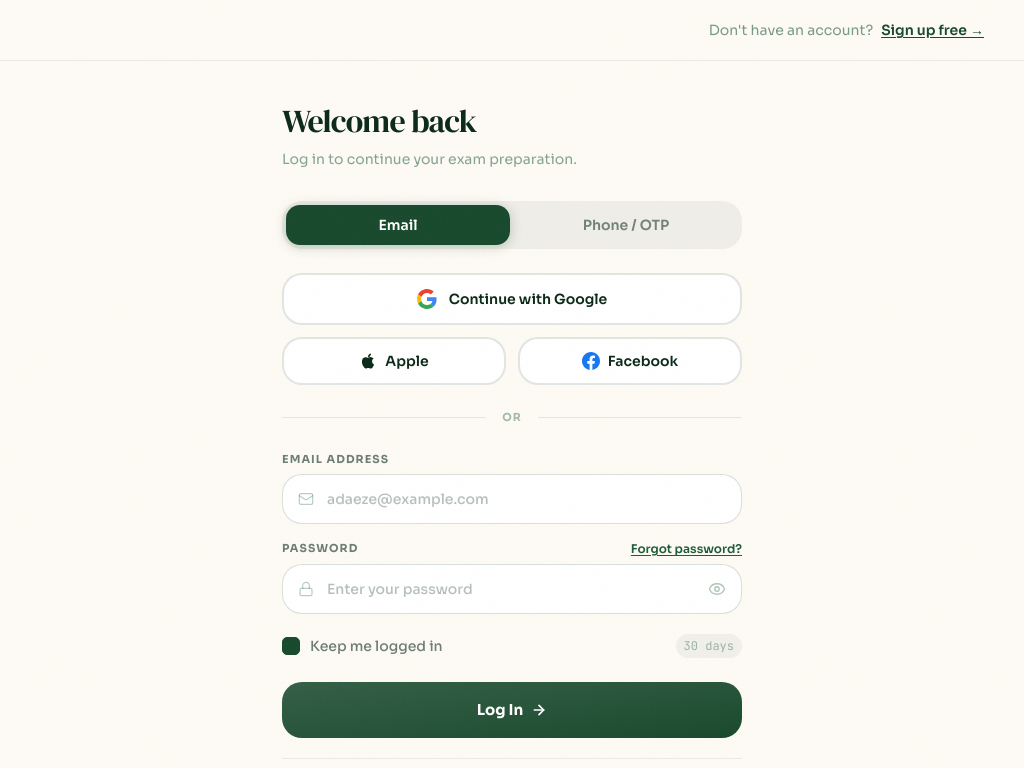
Scenario: LoginPage › Forgot Password Flow › login header is hidden while in forgot password view
Click the button "Forgot password?".
click(686, 549)  # box [631,541,742,557]
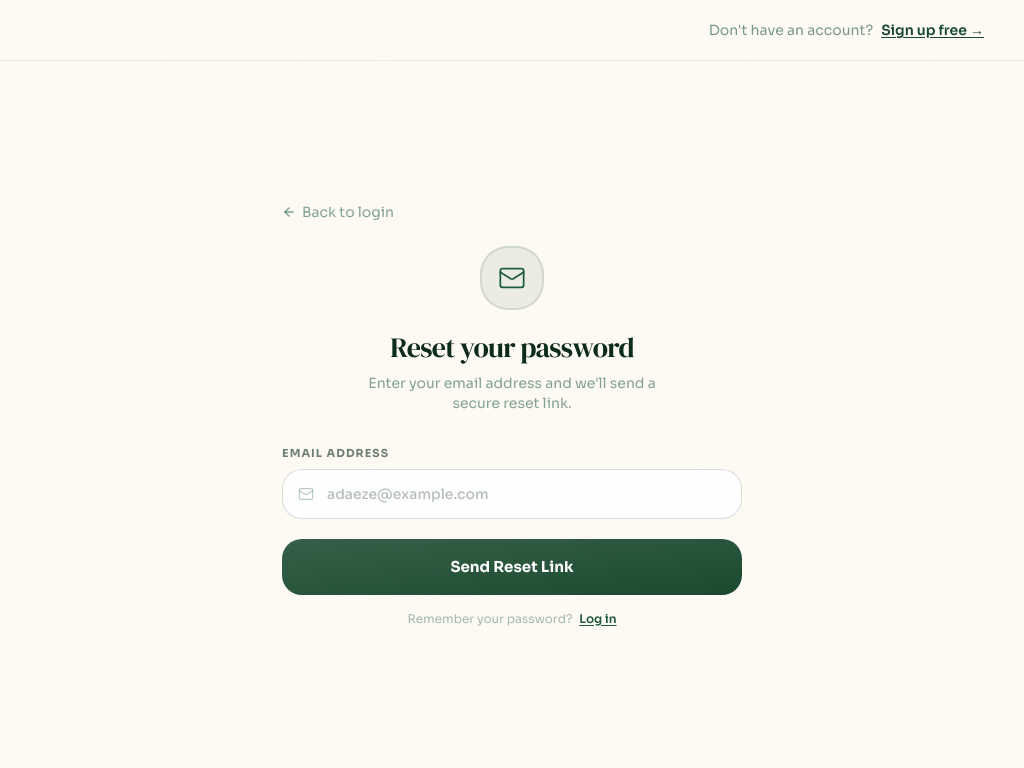
Now the heading "Welcome back" is gone
